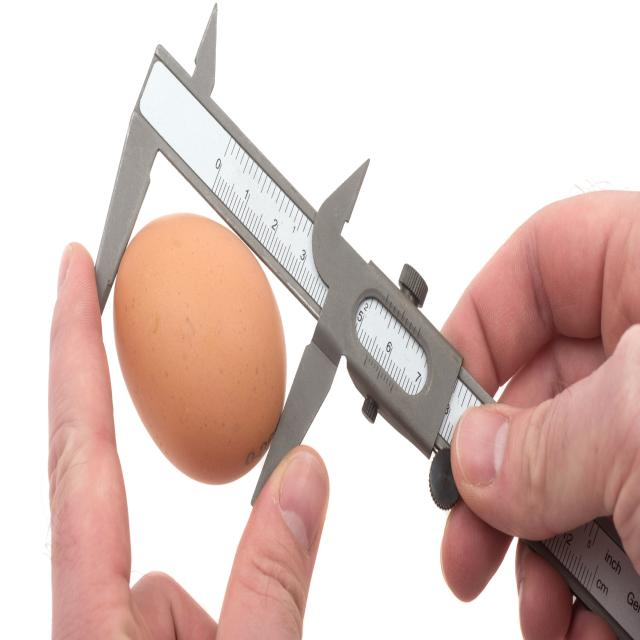huevos: (114, 207, 294, 492)
